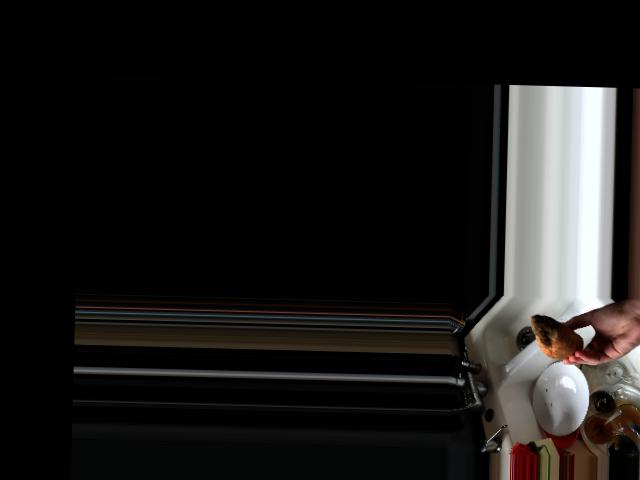sweet_potato: (529, 310, 583, 361)
